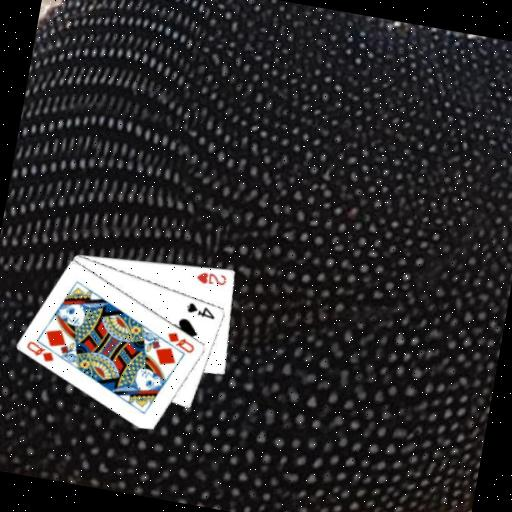2H: (193, 267, 229, 289)
4S: (182, 298, 218, 321)
QD: (162, 327, 198, 355), (22, 337, 59, 364)
